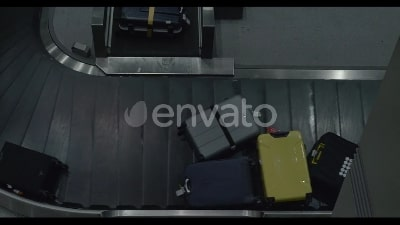baggage: (177, 92, 261, 157), (174, 159, 261, 211), (253, 130, 313, 203), (2, 137, 71, 200), (304, 132, 360, 192), (118, 7, 192, 40)
